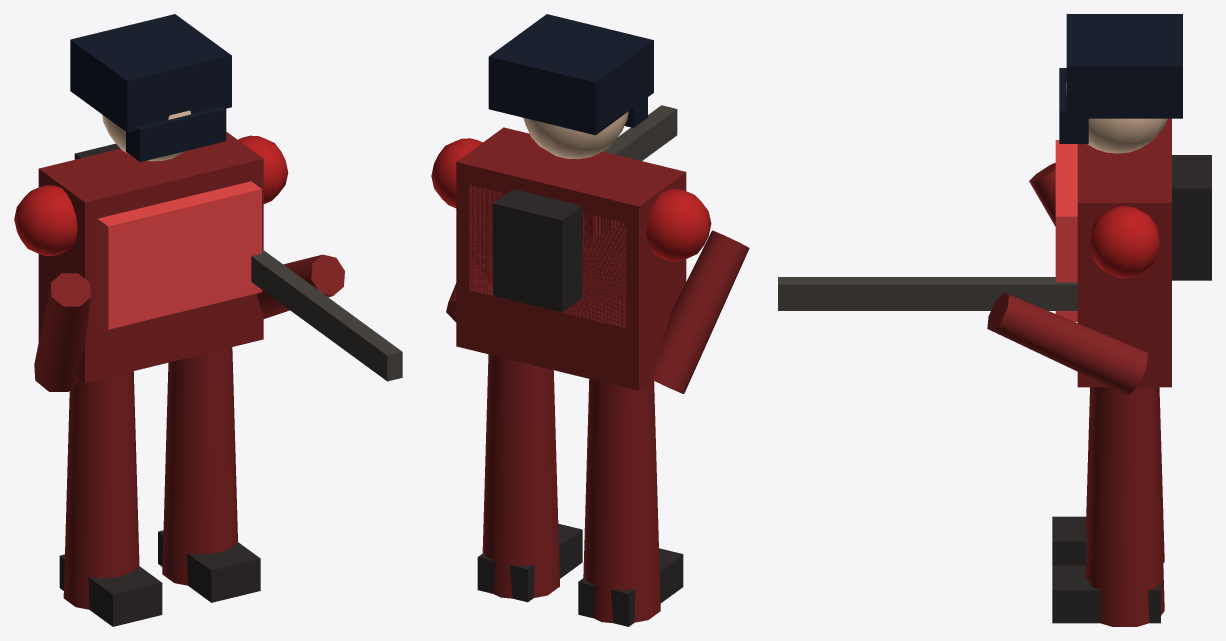
File: enemy.glb
3 renders of one model, left to right at view 1: azimuth 30°, elevation 25°; view 2: azimuth 150°, elevation 25°; view 3: azimuth 270°, elevation 25°, orthographic. The views are drawn at different scales.
Visible parts, largest first — view 1: HostileFighter; view 2: HostileFighter; view 3: HostileFighter.
Boxes of the visible parts, x1=… form: HostileFighter: x1=14, y1=14, x2=402, y2=626; HostileFighter: x1=431, y1=14, x2=749, y2=626; HostileFighter: x1=778, y1=14, x2=1211, y2=626.
Size of the model in its own units: 0.8747 by 1.66 by 1.19.
